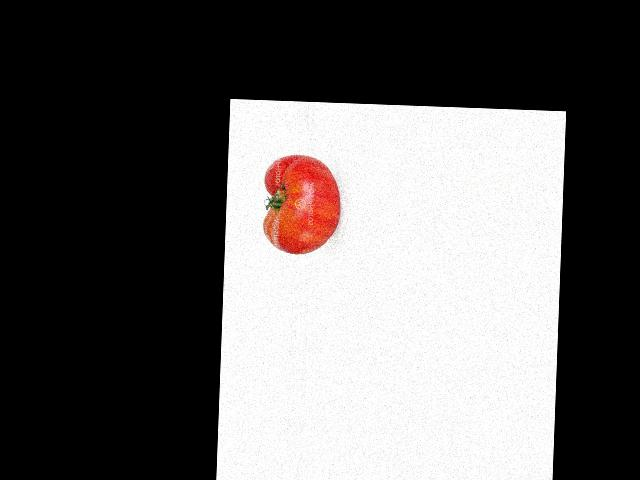tomato: (261, 154, 342, 256)
